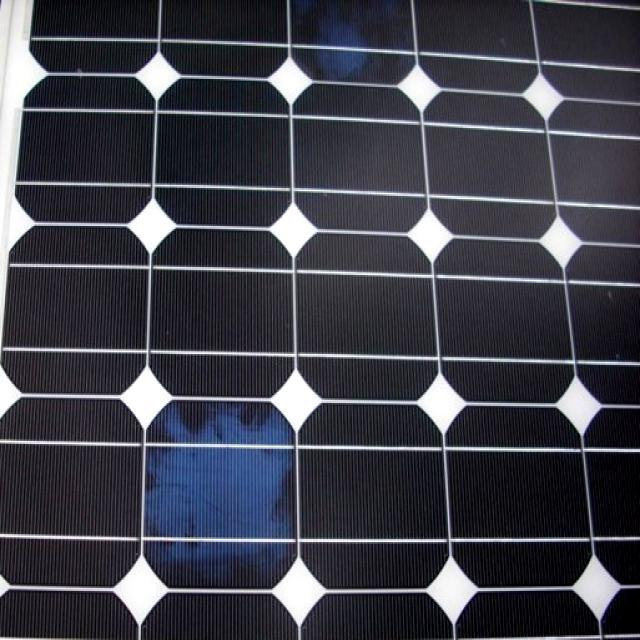shadow: (137, 392, 307, 577), (282, 6, 398, 93)
